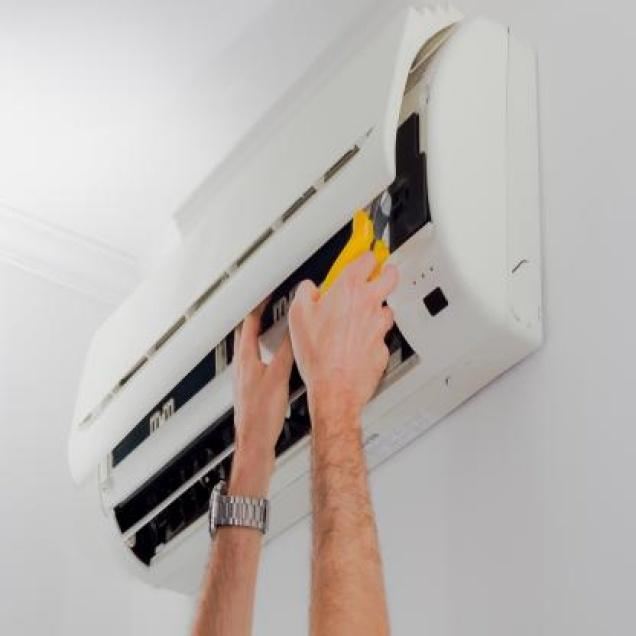AC: (65, 4, 539, 596)
